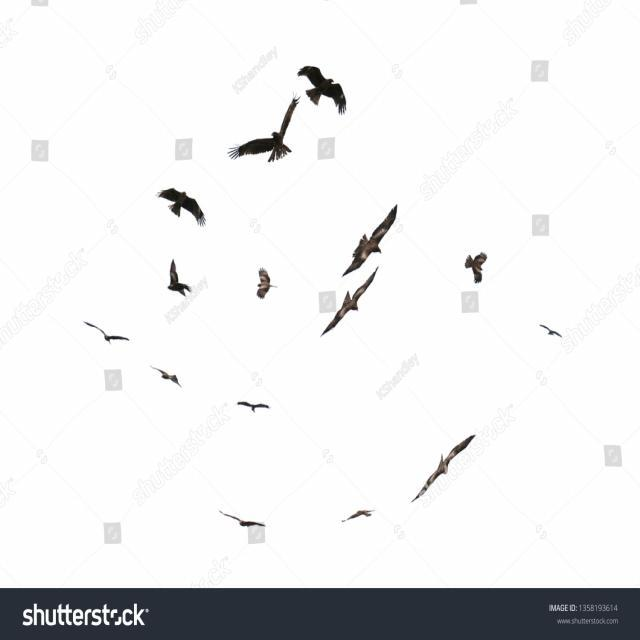bird: (386, 387, 482, 504), (202, 84, 304, 185), (134, 141, 225, 250), (312, 256, 394, 358), (326, 171, 398, 280), (134, 224, 196, 308), (288, 54, 359, 122), (65, 298, 134, 357), (206, 484, 268, 536), (227, 382, 284, 438), (451, 234, 498, 300), (149, 351, 193, 412), (327, 502, 385, 540), (240, 251, 270, 315), (524, 315, 566, 357)
